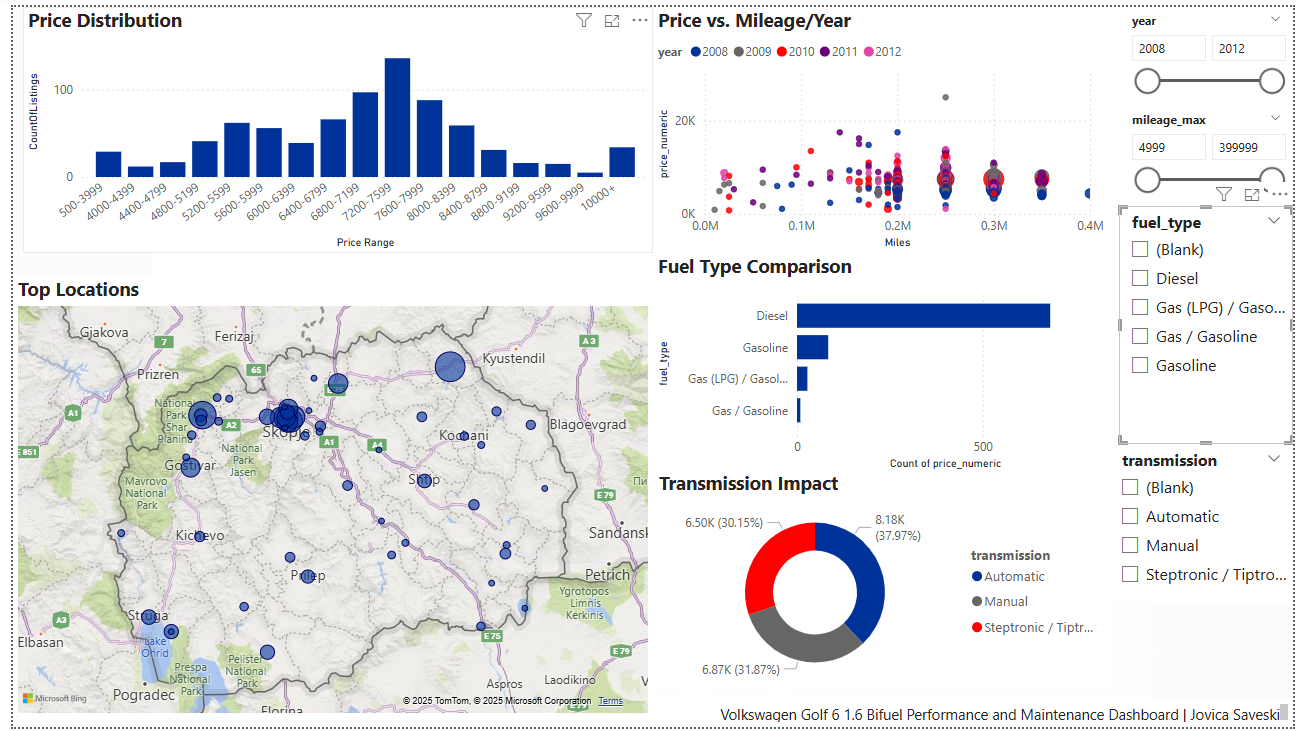

What the dashboard file says about the page in this screenshot:
{"tool":"powerbi","page":{"name":"Market Overview","canvas":[1280,720],"ordinal":0},"visuals":[{"type":"clusteredColumnChart","title":"Price Distribution","fields":{"Category":["sequential_car_listings_cleaned.Price Range"],"Y":["sequential_car_listings_cleaned.CountOfListings"]},"box":[9.6,0,630.4,245.6],"z":0},{"type":"scatterChart","title":"Price vs. Mileage/Year","fields":{"X":["Max(sequential_car_listings_cleaned.mileage_max)"],"Y":["sequential_car_listings_cleaned.price_numeric"],"Size":["sequential_car_listings_cleaned.CountOfListings"],"Series":["sequential_car_listings_cleaned.year"]},"box":[640,0,456.1,245.6],"z":1000},{"type":"barChart","title":"Fuel Type Comparison","fields":{"Category":["sequential_car_listings_cleaned.fuel_type"],"Y":["CountNonNull(sequential_car_listings_cleaned.price_numeric)"]},"box":[640,246,456,221],"z":2000},{"type":"donutChart","title":"Transmission Impact","fields":{"Category":["sequential_car_listings_cleaned.transmission"],"Y":["Avg(sequential_car_listings_cleaned.price_numeric)"]},"box":[641,463,456,220],"z":3000},{"type":"map","title":"Top Locations","fields":{"Category":["sequential_car_listings_cleaned.location"],"Size":["sequential_car_listings_cleaned.CountOfListings"]},"box":[0,269,640,442.3],"z":4000},{"type":"slicer","fields":{"Values":["sequential_car_listings_cleaned.fuel_type"]},"box":[1105.6,198.8,174.4,238.1],"z":5000},{"type":"slicer","fields":{"Values":["sequential_car_listings_cleaned.transmission"]},"box":[1096.1,436.9,183.9,159.5],"z":6000},{"type":"slicer","fields":{"Values":["sequential_car_listings_cleaned.mileage_max"]},"box":[1105.6,98.9,174.4,99.9],"z":7000},{"type":"slicer","fields":{"Values":["sequential_car_listings_cleaned.year"]},"box":[1105.6,0,174.4,98.9],"z":8000},{"type":"textbox","box":[640,692,640,28],"z":9000}]}

Visuals, with their boxes in screenshot pixels (x1, y1, x2, y2), scaled from the page's 1280x720 canvas onto the 1297x731 screenshot:
"Price Distribution" clusteredColumnChart: box=[10, 0, 648, 249]
"Price vs. Mileage/Year" scatterChart: box=[648, 0, 1111, 249]
"Fuel Type Comparison" barChart: box=[648, 250, 1111, 474]
"Transmission Impact" donutChart: box=[650, 470, 1112, 693]
"Top Locations" map: box=[0, 273, 648, 722]
slicer - sequential_car_listings_cleaned.fuel_type: box=[1120, 202, 1296, 444]
slicer - sequential_car_listings_cleaned.transmission: box=[1111, 444, 1296, 606]
slicer - sequential_car_listings_cleaned.mileage_max: box=[1120, 100, 1296, 202]
slicer - sequential_car_listings_cleaned.year: box=[1120, 0, 1296, 100]
textbox: box=[648, 703, 1296, 730]
